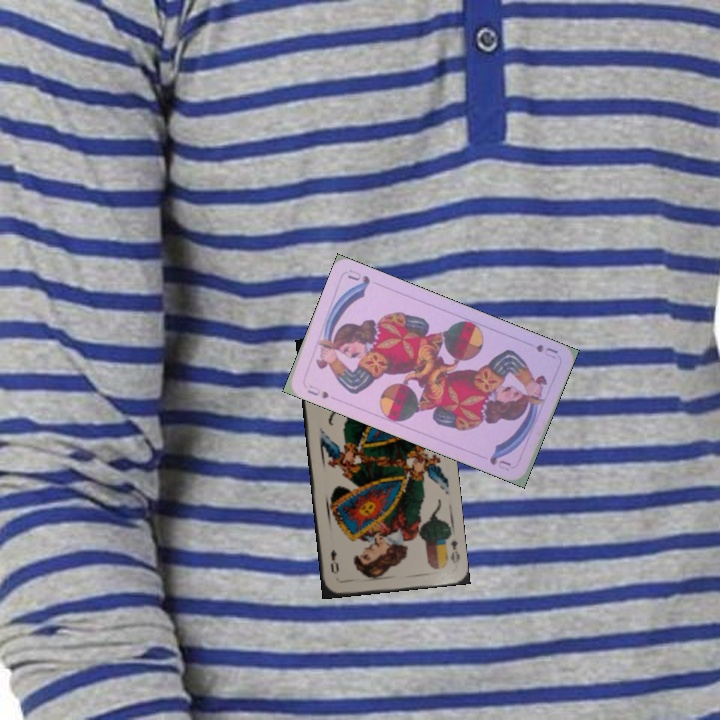EO: (446, 536, 462, 566)
SU: (532, 340, 561, 361), (303, 380, 331, 401)
